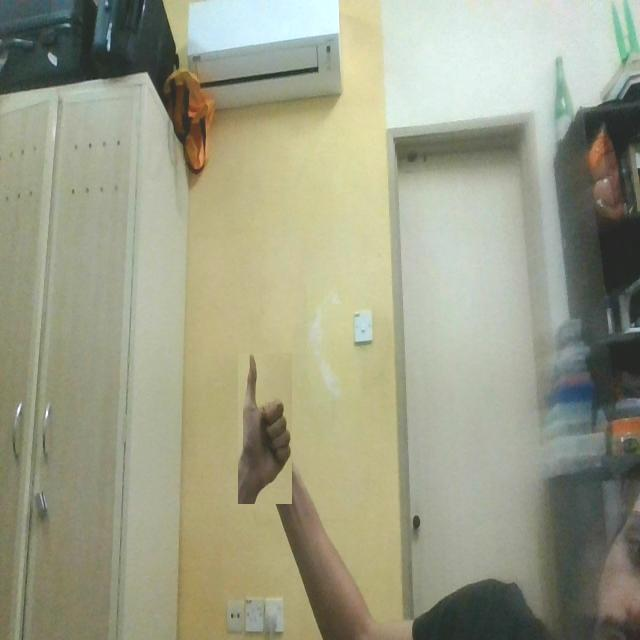thumbs up: (238, 353, 292, 504)
